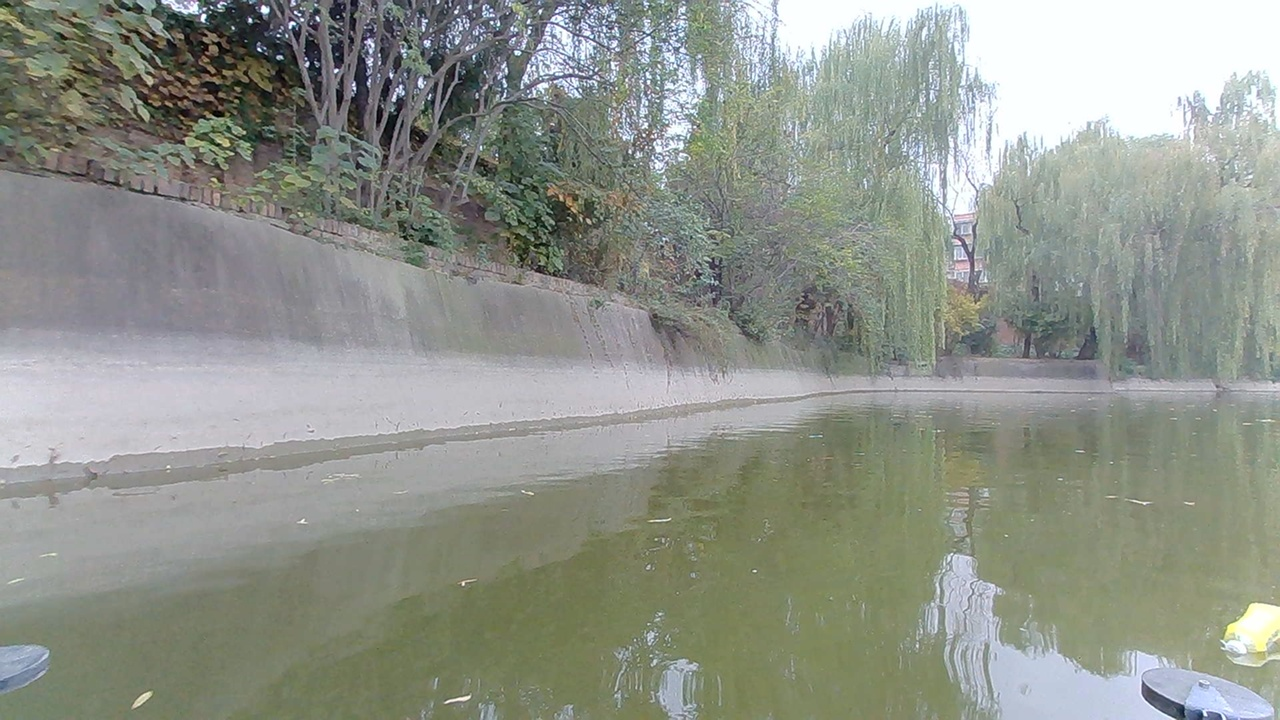bottle: (1218, 601, 1280, 654)
